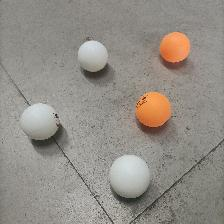WhiteBall: (108, 154, 152, 199), (20, 102, 60, 140), (76, 40, 108, 71)
YellowBall: (133, 91, 172, 127), (159, 31, 190, 62)
